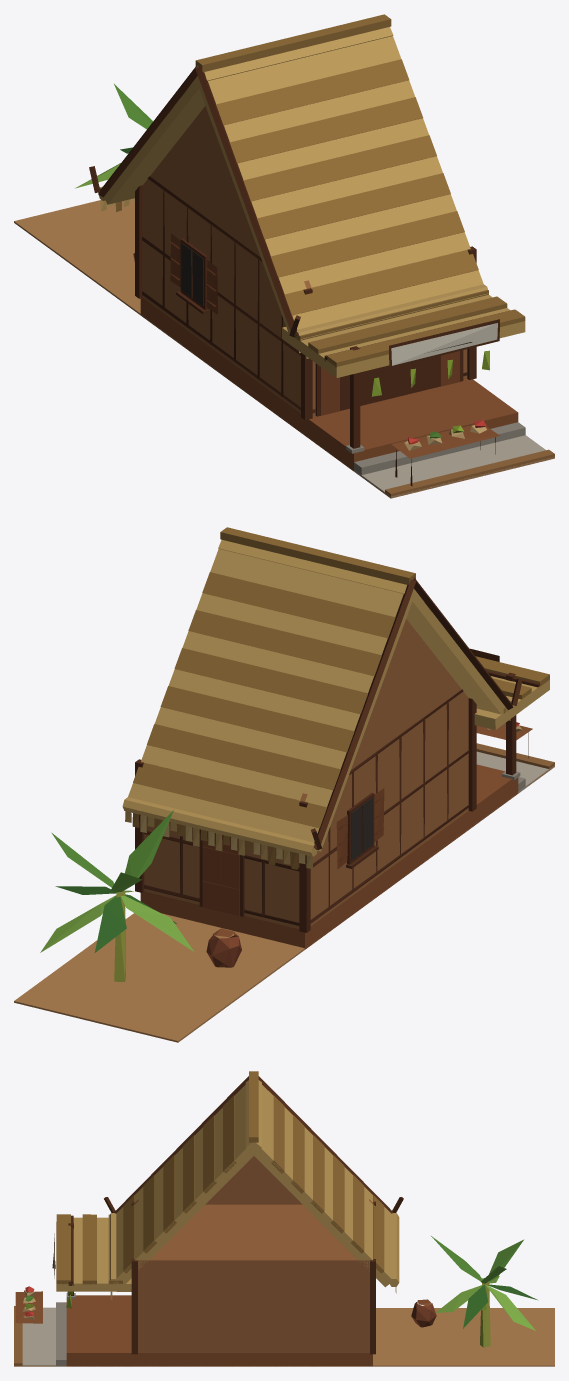
File: bay1_left.glb
The picture shows the model from 3 angles, top to bottom: view 1: azimuth 30°, elevation 25°; view 2: azimuth 150°, elevation 25°; view 3: azimuth 270°, elevation 25°; orthographic projection. The views are drawn at different scales.
Visible parts, largest first — view 1: body, windows; view 2: body, windows; view 3: body.
Boxes of the visible parts, box(x1,y1,x2,y2) form: body: box(14, 14, 554, 498); windows: box(181, 243, 203, 305); body: box(14, 527, 554, 1042); windows: box(351, 797, 372, 860); body: box(14, 1071, 554, 1366).
Size of the model in its own units: 5.33 by 7.44 by 15.9.
